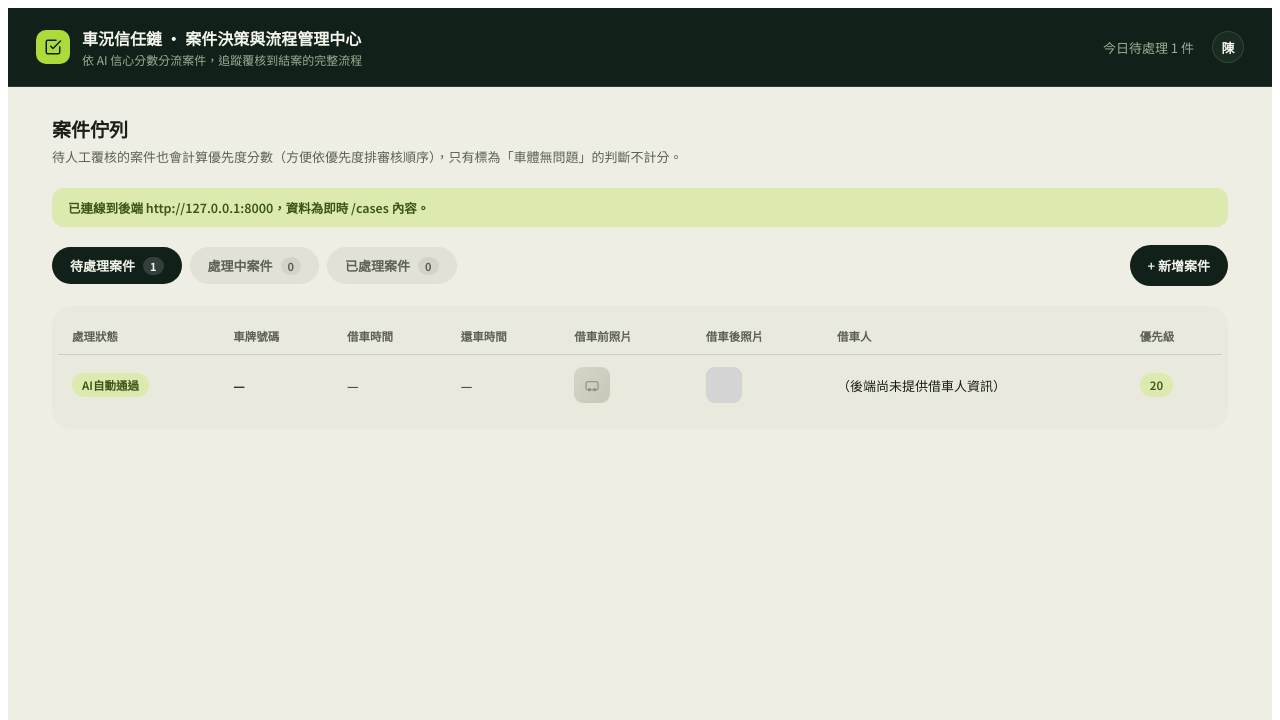
Test: production backstage console › reopens a Detection through the appeal endpoint
Expected: the text "已連線到後端 http://127.0.0.1:8000，資料為即時 /cases 內容。" is shown, [52, 188, 1228, 227]
Click the row "AI自動通過 — — — （後端尚未提供借車人資訊） 20" at (640, 385), box [58, 354, 1222, 415]
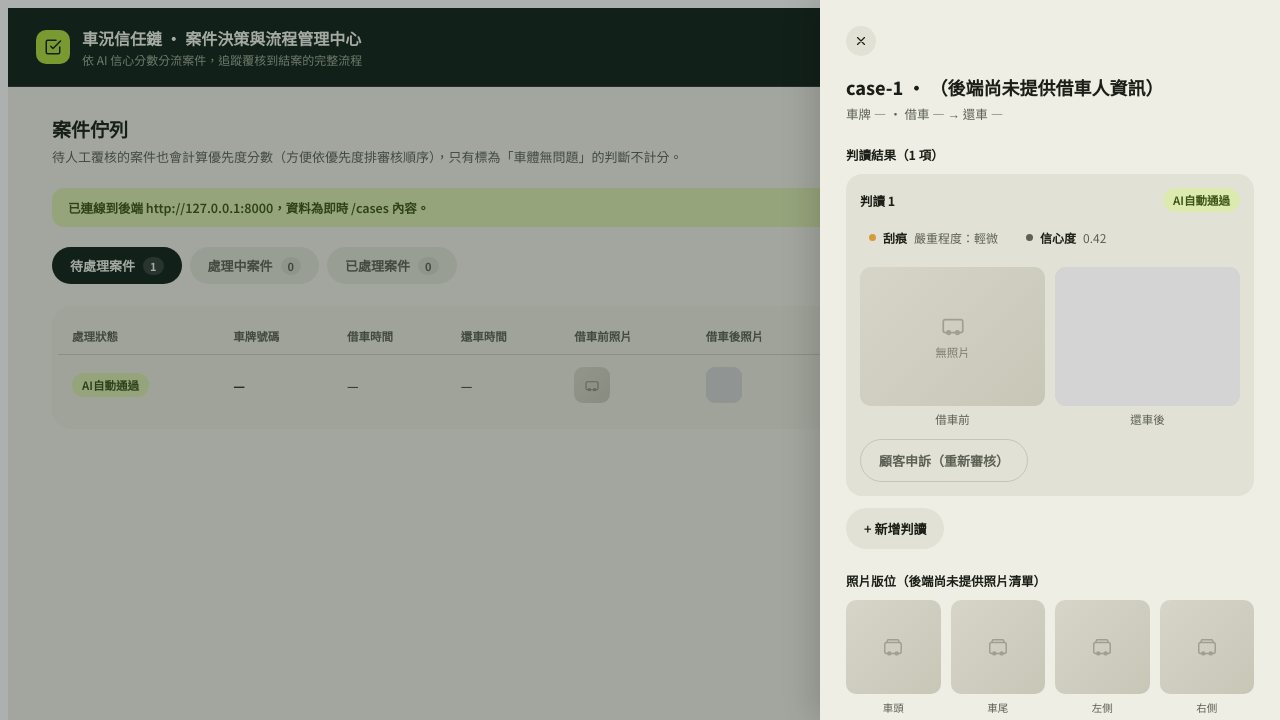
Click the button "顧客申訴（重新審核）" at (944, 460), box [860, 439, 1028, 482]
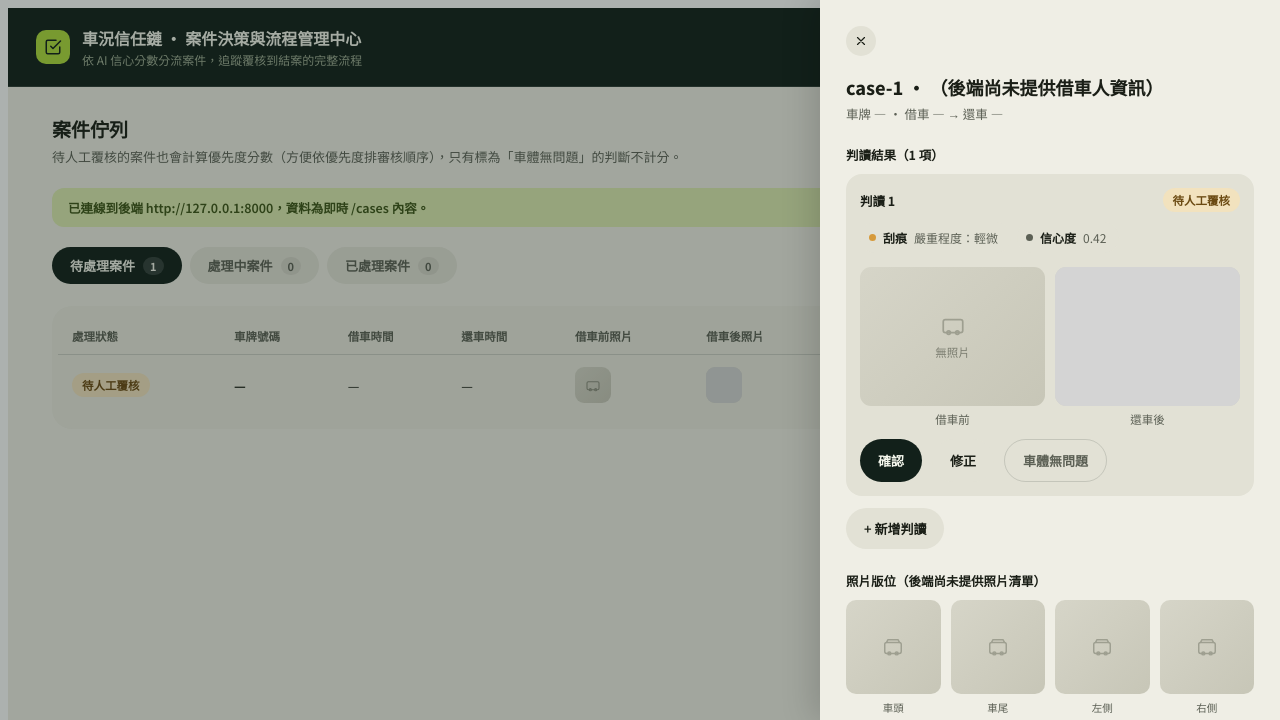
Result: the text "待人工覆核" in the row of "20" is shown at [82, 377, 140, 393]
